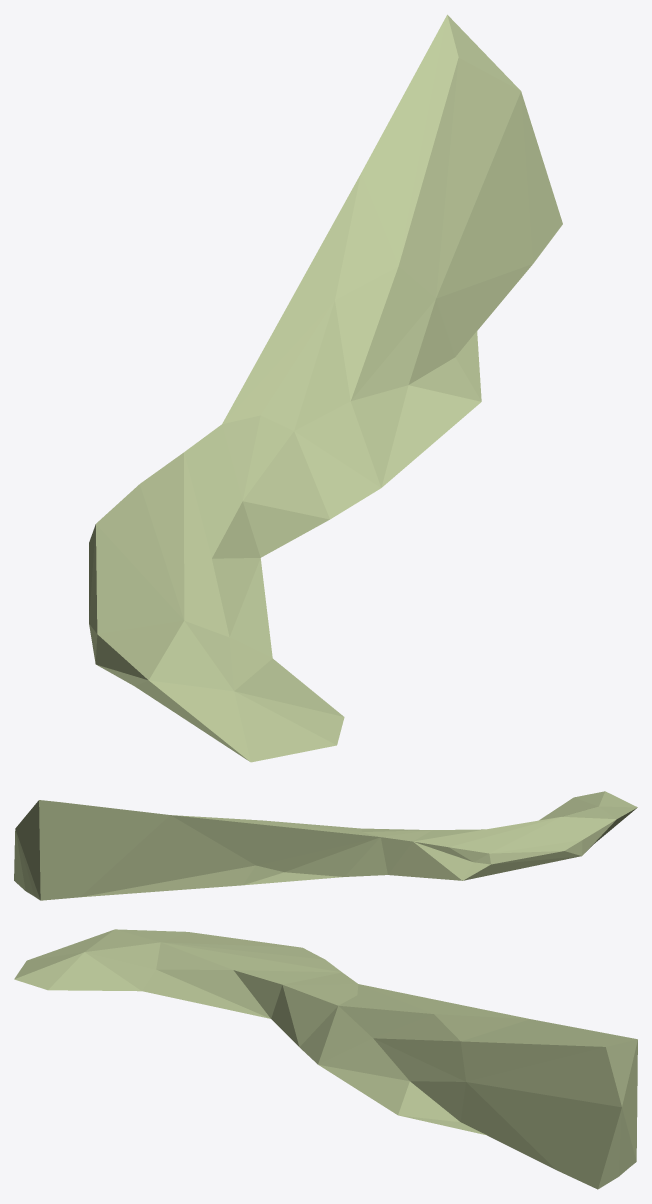
The model's file is hill_10.gltf.
The picture shows the model from 3 angles, top to bottom: view 1: azimuth 30°, elevation 25°; view 2: azimuth 150°, elevation 25°; view 3: azimuth 270°, elevation 25°; orthographic projection. The views are drawn at different scales.
Visible parts, largest first — view 1: hill; view 2: hill; view 3: hill.
Boxes of the visible parts, x1=… form: hill: x1=89, y1=14, x2=562, y2=762; hill: x1=14, y1=791, x2=637, y2=900; hill: x1=14, y1=929, x2=637, y2=1189.
Size of the model in its own units: 8.22 by 2.05 by 8.99.
